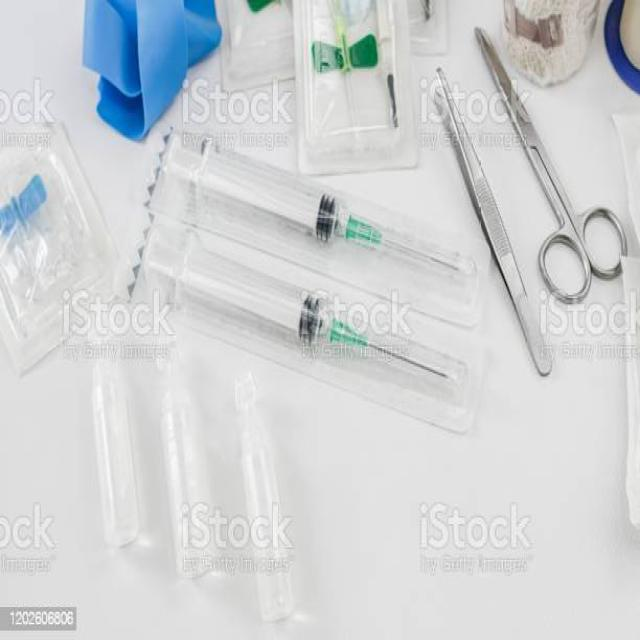B3: (118, 216, 501, 419), (469, 14, 640, 306)
